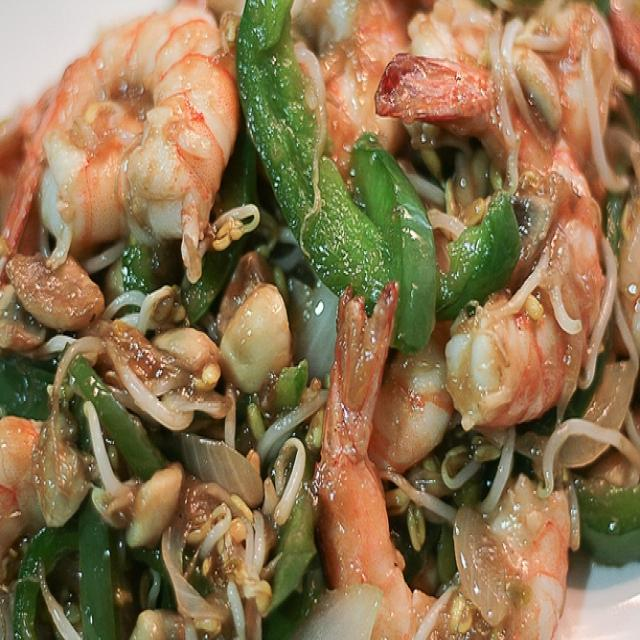炸货点心: (11, 9, 630, 634)
熟制海鲜: (11, 9, 630, 634)
